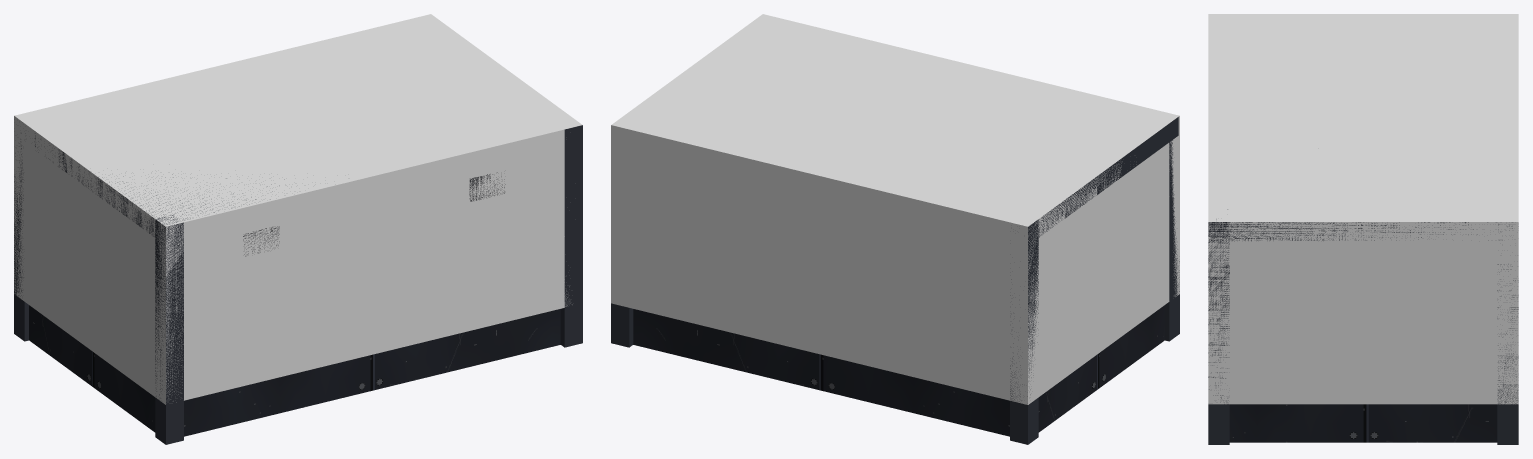
Rendered from Deco_Crate.gltf.
The picture shows the model from 3 angles, left to right: view 1: azimuth 30°, elevation 25°; view 2: azimuth 150°, elevation 25°; view 3: azimuth 270°, elevation 25°; orthographic projection. The views are drawn at different scales.
Parts seen in each view (by area): view 1: Deco_Crate_COL, Deco_Crate; view 2: Deco_Crate_COL, Deco_Crate; view 3: Deco_Crate_COL, Deco_Crate.
Boxes of the visible parts, left/top/right/bottom form: Deco_Crate_COL: left=14, top=14, right=582, bottom=404; Deco_Crate: left=14, top=125, right=582, bottom=444; Deco_Crate_COL: left=611, top=14, right=1179, bottom=404; Deco_Crate: left=611, top=117, right=1179, bottom=444; Deco_Crate_COL: left=1208, top=14, right=1518, bottom=404; Deco_Crate: left=1208, top=209, right=1518, bottom=444.
Bounding box in the file's own units: 0.92 × 0.46 × 0.58.
5 materials, 2 textured.
